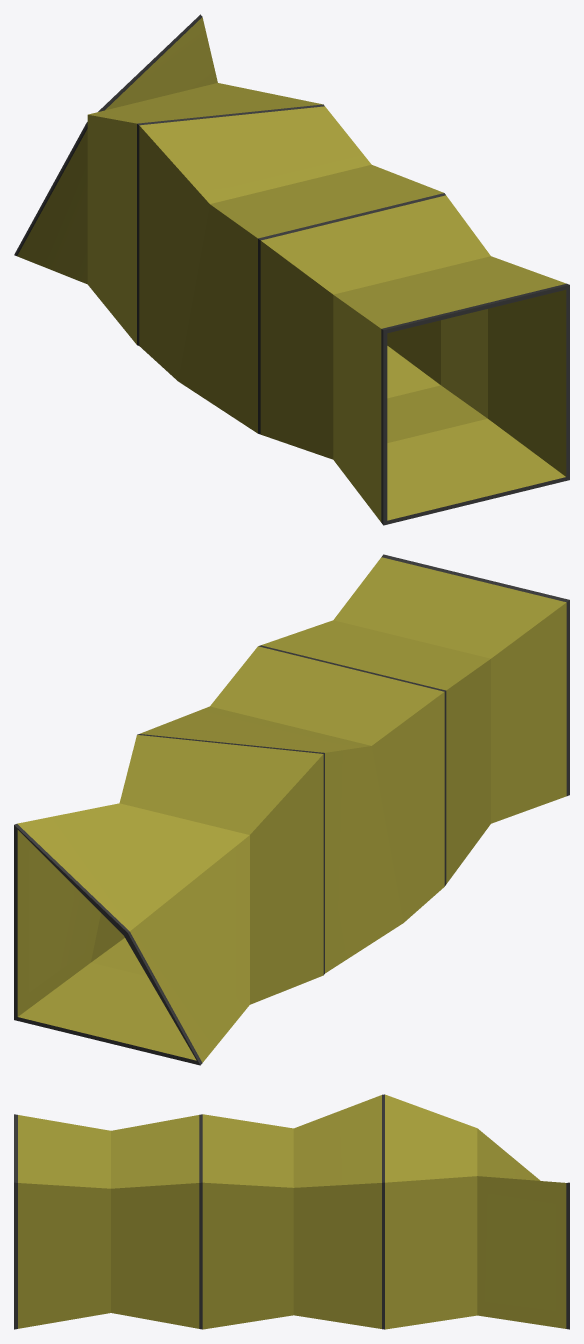
File: haz_tent_2.fbx
3 renders of one model, top to bottom at view 1: azimuth 30°, elevation 25°; view 2: azimuth 150°, elevation 25°; view 3: azimuth 270°, elevation 25°, orthographic. The views are drawn at different scales.
Parts seen in each view (by area): view 1: haz_tent_2; view 2: haz_tent_2; view 3: haz_tent_2.
Boxes of the visible parts, bbox=[...] form: haz_tent_2: bbox=[14, 14, 569, 525]; haz_tent_2: bbox=[14, 554, 569, 1065]; haz_tent_2: bbox=[14, 1094, 569, 1329].
Size of the model in its own units: 4.61 by 4.73 by 14.3.
